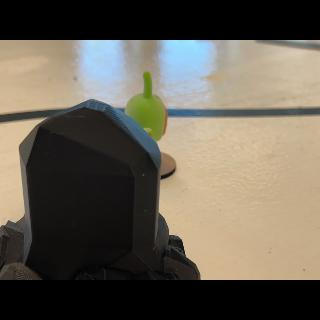teletubby: (124, 71, 167, 142)
